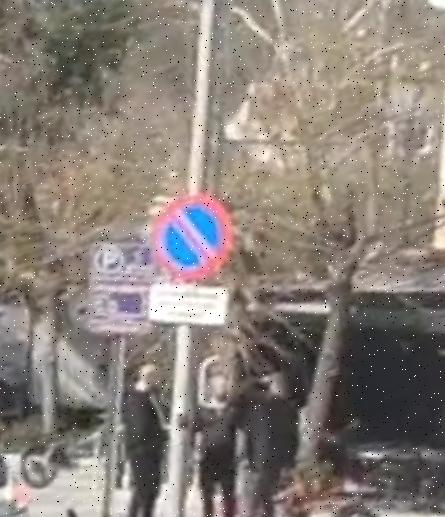nopark: (155, 196, 233, 280)
